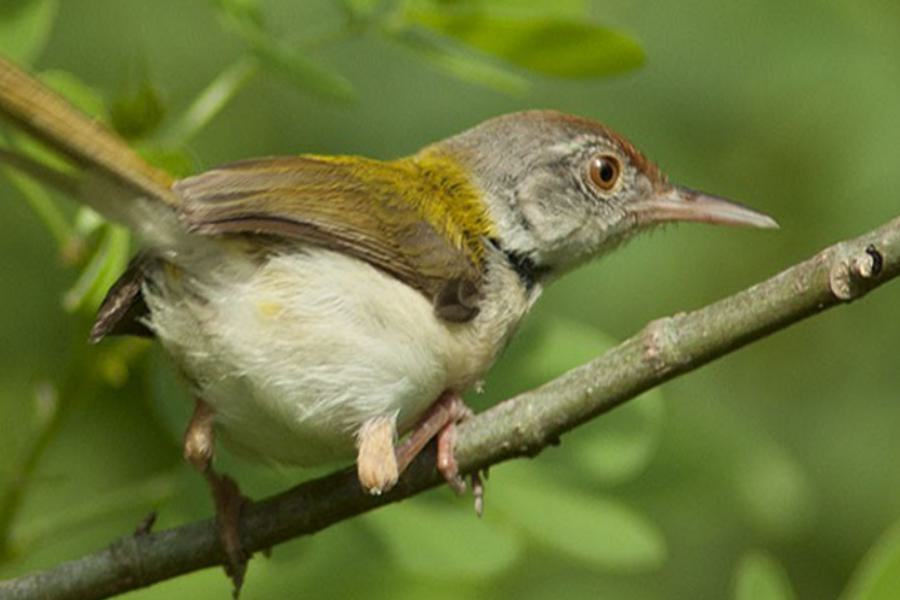tailorbird: (66, 75, 775, 525)
